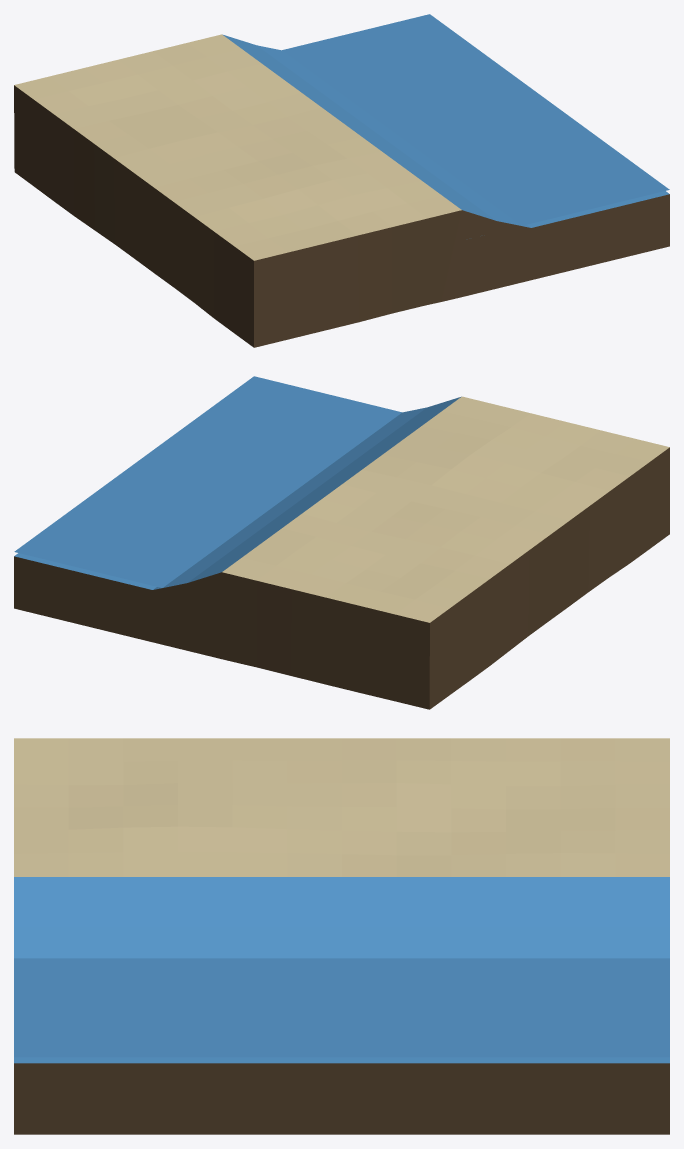
The model's file is sand_water_edge.glb.
3 renders of one model, top to bottom at view 1: azimuth 30°, elevation 25°; view 2: azimuth 150°, elevation 25°; view 3: azimuth 270°, elevation 25°, orthographic. The views are drawn at different scales.
Visible parts, largest first — view 1: Grid; view 2: Grid; view 3: Grid.
Part boxes in pixels (box(x1,y1,x2,y2)): Grid: box(14, 14, 669, 347); Grid: box(14, 376, 669, 709); Grid: box(14, 738, 669, 1134).
Size of the model in its own units: 1 by 0.207 by 1.
